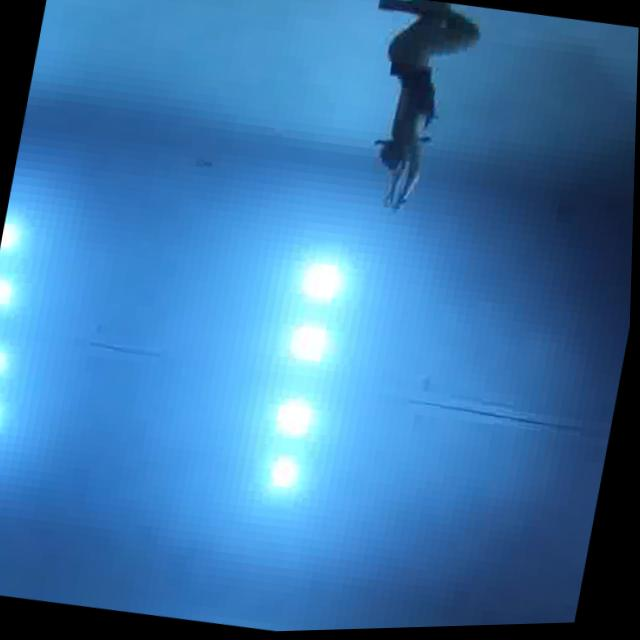human: (332, 0, 485, 234)
